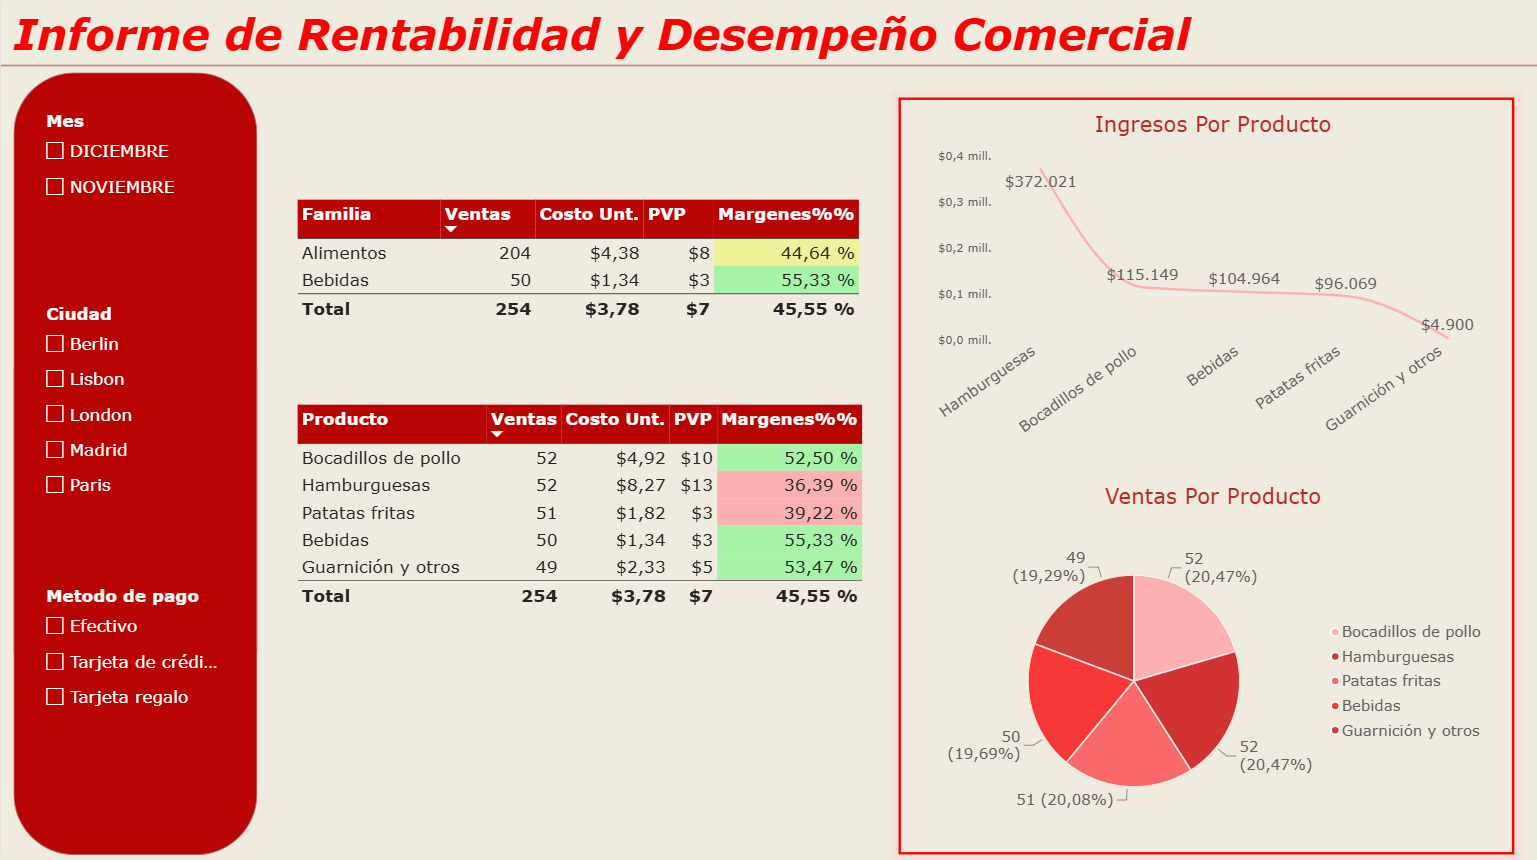

This screenshot's page, from the dashboard's own definition file:
{"tool":"powerbi","page":{"name":"Margenes","canvas":[1920,1080],"ordinal":1},"visuals":[{"type":"textbox","box":[16,16,1872,80],"z":4000},{"type":"shape","box":[0,64,1920,48],"z":5000},{"type":"shape","box":[16,96,304,976],"z":6000},{"type":"tableEx","fields":{"Values":["_9__Sales_Data_Analysis.Producto","Medidas.Ventas Totales","Medidas.Costo Unitario","Medidas.PVP","Medidas.Margenes%%"]},"box":[352,496,752,304],"z":7000},{"type":"slicer","fields":{"Values":["Calendario.Mes Nombre"]},"box":[48,144,224,144],"z":8000},{"type":"slicer","fields":{"Values":["_9__Sales_Data_Analysis.Metodo de pago"]},"box":[48,736,224,176],"z":9000},{"type":"shape","box":[1120,128,768,944],"z":10000},{"type":"lineChart","title":"Ingresos Por Ciudad","fields":{"Category":["_9__Sales_Data_Analysis.Producto"],"Y":["Medidas.Ingresos Totales"]},"box":[1152,176,720,416],"z":11000},{"type":"slicer","fields":{"Values":["_9__Sales_Data_Analysis.Ciudad"]},"box":[48,384,224,304],"z":12000},{"type":"pieChart","fields":{"Y":["Medidas.Ventas Totales"],"Category":["_9__Sales_Data_Analysis.Producto"]},"box":[1152,656,720,400],"z":13000},{"type":"textbox","box":[1168,144,688,48],"z":14000},{"type":"textbox","box":[1168,608,688,80],"z":15000},{"type":"tableEx","fields":{"Values":["_9__Sales_Data_Analysis.Familia","Medidas.Ventas Totales","Medidas.Costo Unitario","Medidas.PVP","Medidas.Margenes%%"]},"box":[352,240,736,240],"z":15001}]}

Visuals, with their boxes in screenshot pixels (x1, y1, x2, y2), scaled from the page's 1920x1080 canvas onto the 1537x860 screenshot:
textbox: <region>13, 13, 1511, 76</region>
shape: <region>0, 51, 1536, 89</region>
shape: <region>13, 76, 256, 854</region>
tableEx - _9__Sales_Data_Analysis.Producto x Medidas.Ventas Totales: <region>282, 395, 884, 637</region>
slicer - Calendario.Mes Nombre: <region>38, 115, 218, 229</region>
slicer - _9__Sales_Data_Analysis.Metodo de pago: <region>38, 586, 218, 726</region>
shape: <region>897, 102, 1511, 854</region>
"Ingresos Por Ciudad" lineChart: <region>922, 140, 1499, 471</region>
slicer - _9__Sales_Data_Analysis.Ciudad: <region>38, 306, 218, 548</region>
pieChart - Medidas.Ventas Totales x _9__Sales_Data_Analysis.Producto: <region>922, 522, 1499, 841</region>
textbox: <region>935, 115, 1486, 153</region>
textbox: <region>935, 484, 1486, 548</region>
tableEx - _9__Sales_Data_Analysis.Familia x Medidas.Ventas Totales: <region>282, 191, 871, 382</region>
